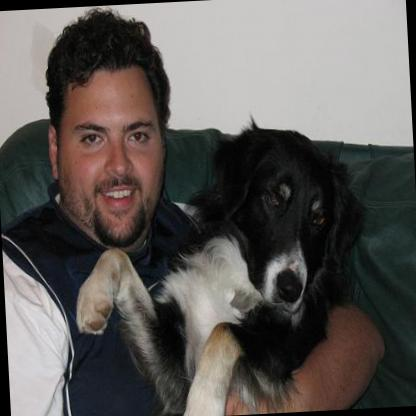Border_collie: (56, 110, 377, 416)
